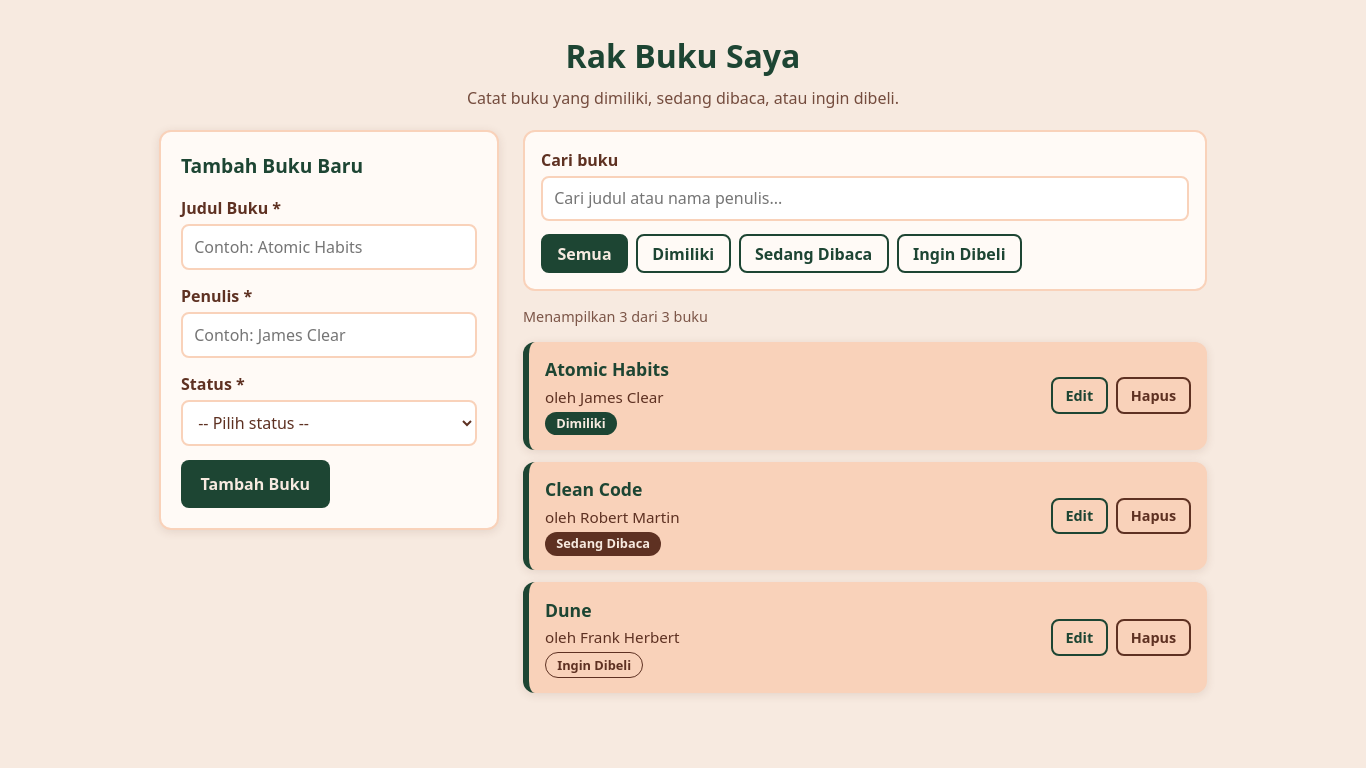
Test: Home (integrasi: Context + localStorage + komponen) › menghapus buku setelah konfirmasi
Click the button with aria-label "hapus buku dune".
click(1154, 637)  # box [1116,619,1191,656]
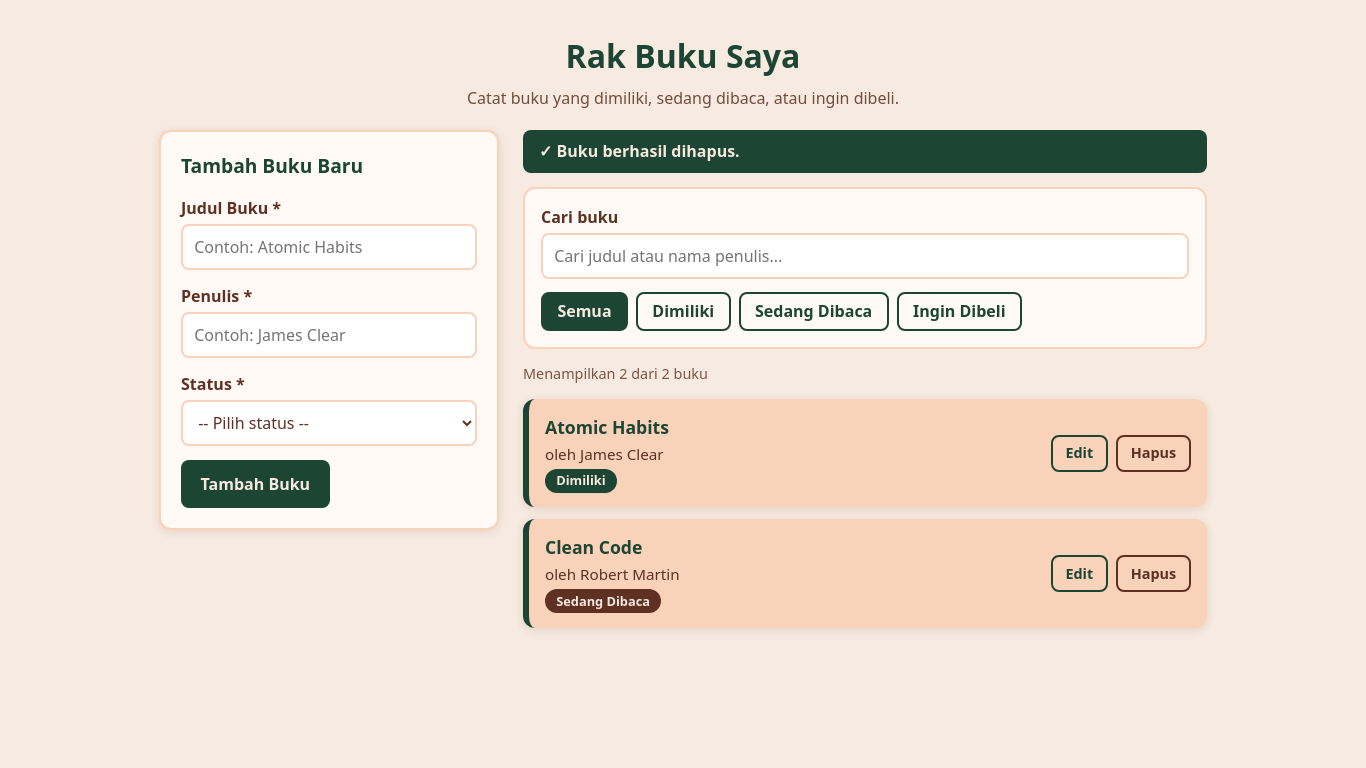
Expected: the heading "Dune" is gone
